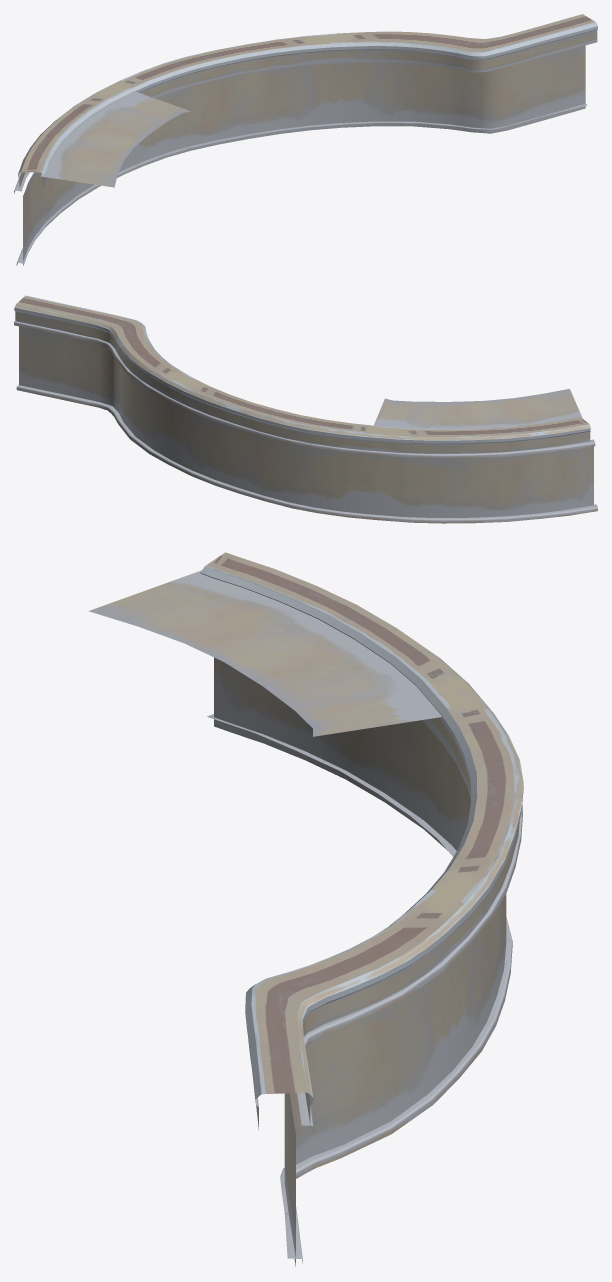
File: pref_sm_beach_winter_techborn01_e_mirror02_lv3.fbx
3 views of the same model, one above another, from view 1: azimuth 30°, elevation 25°; view 2: azimuth 150°, elevation 25°; view 3: azimuth 270°, elevation 25° (orthographic). The views are drawn at different scales.
Parts seen in each view (by area): view 1: pref_sm_beach_winter_techborn01_e_mirror02_lv3; view 2: pref_sm_beach_winter_techborn01_e_mirror02_lv3; view 3: pref_sm_beach_winter_techborn01_e_mirror02_lv3.
Boxes of the visible parts, box(x1,y1,x2,y2) form: pref_sm_beach_winter_techborn01_e_mirror02_lv3: box(14, 14, 597, 265); pref_sm_beach_winter_techborn01_e_mirror02_lv3: box(14, 295, 597, 523); pref_sm_beach_winter_techborn01_e_mirror02_lv3: box(88, 552, 523, 1266).
Bounding box in the file's own units: 21.54 × 3.21 × 7.23.
